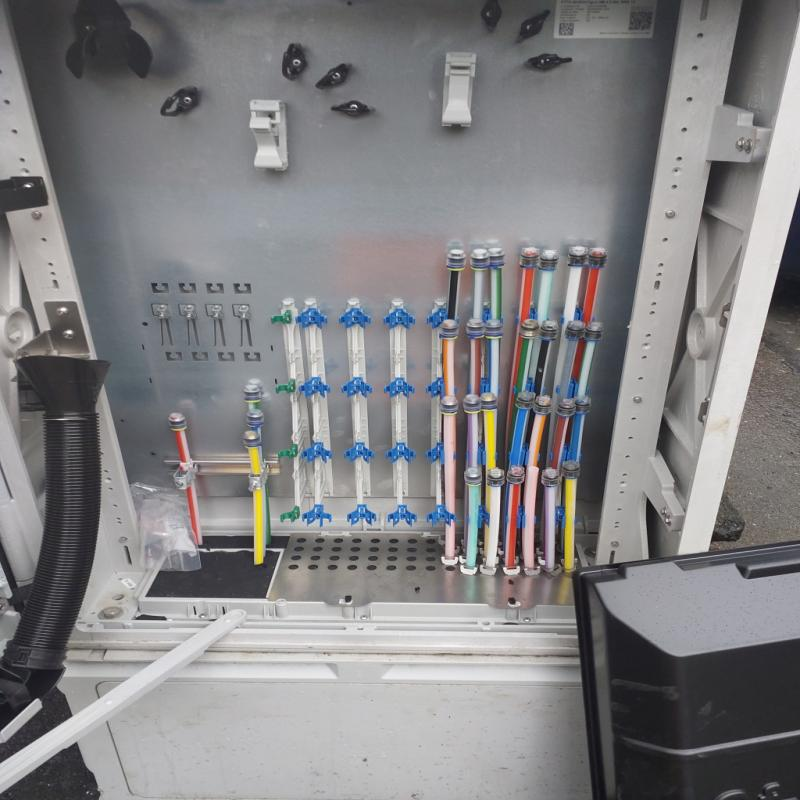NT-Gehause: (0, 0, 783, 760)
